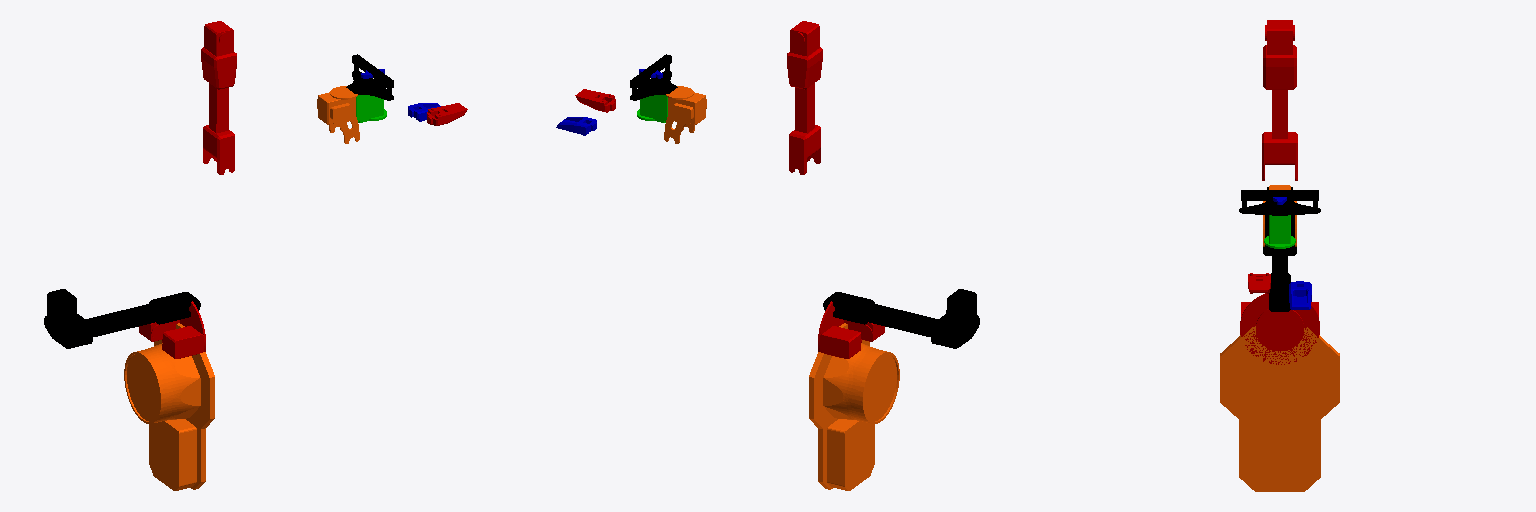
The robot description file, URDF, robot "wx200":
<?xml version="1.0" encoding="utf-8"?>
<!-- =================================================================================== -->
<!-- |    This document was autogenerated by xacro from wx200.urdf.xacro               | -->
<!-- |    EDITING THIS FILE BY HAND IS NOT RECOMMENDED                                 | -->
<!-- =================================================================================== -->
<robot name="wx200">
  <material name="black">
    <color rgba="0.0 0.0 0.0 1.0"/>
  </material>
  <material name="blue">
    <color rgba="0.0 0.0 0.8 1.0"/>
  </material>
  <material name="green">
    <color rgba="0.0 0.8 0.0 1.0"/>
  </material>
  <material name="grey">
    <color rgba="0.2 0.2 0.2 1.0"/>
  </material>
  <material name="silver">
    <color rgba="0.913725490196 0.913725490196 0.847058823529 1.0"/>
  </material>
  <material name="orange">
    <color rgba="1.0 0.423529411765 0.0392156862745 1.0"/>
  </material>
  <material name="brown">
    <color rgba="0.870588235294 0.811764705882 0.764705882353 1.0"/>
  </material>
  <material name="red">
    <color rgba="0.8 0.0 0.0 1.0"/>
  </material>
  <material name="white">
    <color rgba="1.0 1.0 1.0 1.0"/>
  </material>

  <link name="world">
    <visual>
      <origin rpy="0 0 0" xyz="0 0 0"/>
      <geometry>
        <box size="0 0 0"/>
      </geometry>
    </visual>
  </link>

  <joint name="base_static_joint" type="fixed">
    <origin rpy="0 -1.57 0" xyz="0. 0 0"/>
    <parent link="world"/>
    <child link="wx200/base_link"/>
  </joint>

  <link name="wx200/base_link">
    <visual>
      <origin rpy="0 0 1.57079632679" xyz="0 0 0"/>
      <geometry>
        <mesh filename="../meshes/wx200_1_base.dae" scale="0.001 0.001 0.001"/>
      </geometry>
      <material name="orange"/>
    </visual>
    <collision>
      <!-- <origin rpy="0 0 1.57079632679" xyz="0 0 0"/> -->
      <origin rpy="1.57079632679 0 1.57079632679" xyz="0 0 0"/>
      <geometry>
        <mesh filename="../meshes/wx200_1_base.dae" scale="0.001 0.001 0.001"/>
      </geometry>
    </collision>
    <inertial>
      <origin rpy="0 0 1.57079632679" xyz="-0.0381747000 0.0006478630 0.0193458000"/>
      <mass value="0.540142"/>
      <inertia ixx="0.0021190000" ixy="-0.0000172100" ixz="0.0000006389" iyy="0.0006925000" iyz="0.0000461200" izz="0.0025280000"/>
    </inertial>
  </link>

  <joint name="waist" type="revolute">
    <axis xyz="1 0 0"/>
    <limit effort="8" lower="-3.14158265359" upper="3.14158265359" velocity="3.14159265359"/>
    <!-- <origin rpy="0 0 0" xyz="0 0 0.072"/> -->
    <origin rpy="0 0 0" xyz="0.072 0 0"/>
    <parent link="wx200/base_link"/>
    <child link="wx200/shoulder_link"/>
    <dynamics friction="0."/>
  </joint>

  <link name="wx200/shoulder_link">
    <visual>
      <origin rpy="0 0 1.57079632679" xyz="0 0 -0.003"/>
      <geometry>
        <mesh filename="../meshes/wx200_2_shoulder.dae" scale="0.001 0.001 0.001"/>
      </geometry>
      <material name="red"/>
    </visual>
    <collision>
      <!-- <origin rpy="0 0 1.57079632679" xyz="0 0 -0.003"/> -->
      <origin rpy="1.57079632679 0 1.57079632679" xyz="0 0 -0.003"/>
      <geometry>
        <mesh filename="../meshes/wx200_2_shoulder.dae" scale="0.001 0.001 0.001"/>
      </geometry>
    </collision>
    <inertial>
      <origin rpy="0 0 1.57079632679" xyz="0.0000223210 0.0000414608 0.0066287000"/>
      <mass value="0.480879"/>
      <inertia ixx="0.0003790000" ixy="0.0000000022" ixz="-0.0000003561" iyy="0.0005557000" iyz="0.0000012247" izz="0.0005889000"/>
    </inertial>
  </link>

  <joint name="shoulder" type="revolute">
    <!-- <axis xyz="0 1 0"/> -->
    <axis xyz="0 1 0"/>
    <limit effort="18" lower="-1.88495559215" upper="1.97222205475" velocity="3.14159265359"/>
    <!-- <origin rpy="0 0 0" xyz="0 0 0.03865"/> -->
    <origin rpy="0 0 0" xyz="0.03865 0 0"/>
    <parent link="wx200/shoulder_link"/>
    <child link="wx200/upper_arm_link"/>
    <dynamics friction="0."/>
  </joint>
 
  <link name="wx200/upper_arm_link">
    <visual>
      <origin rpy="0 0 1.57079632679" xyz="0 0 0"/>
      <geometry>
        <mesh filename="../meshes/wx200_3_upper_arm.dae" scale="0.001 0.001 0.001"/>
      </geometry>
      <material name="black"/>
    </visual>
    <collision>
      <!-- <origin rpy="0 0 1.57079632679" xyz="0 0 0"/> -->
      <origin rpy="1.57079632679 0 1.57079632679" xyz="0 0 0"/>
      <geometry>
        <mesh filename="../meshes/wx200_3_upper_arm.dae" scale="0.001 0.001 0.001"/>
      </geometry>
    </collision>
    <inertial>
      <origin rpy="0 0 1.57079632679" xyz="0.0119707000 -0.0001179264 0.1394290000"/>
      <mass value="0.297781"/>
      <inertia ixx="0.0017100000" ixy="-0.0000011433" ixz="0.0000021161" iyy="0.0016310000" iyz="0.0002135000" izz="0.0001482000"/>
    </inertial>
  </link>

  <joint name="elbow" type="revolute">
    <!-- <axis xyz="0 1 0"/> -->
    <axis xyz="0 1 0"/>
    <limit effort="13" lower="-1.88495559215" upper="1.62315620435" velocity="3.14159265359"/>
    <!-- <origin rpy="0 0 0" xyz="0.05 0 0.2"/> -->
    <origin rpy="0 0 0" xyz="0.2 0 -0.05"/>
    <parent link="wx200/upper_arm_link"/>
    <child link="wx200/forearm_link"/>
    <dynamics friction="0."/>
  </joint>
 
  <link name="wx200/forearm_link">
    <visual>
      <origin rpy="0 0 1.57079632679" xyz="0 0 0"/>
      <geometry>
        <mesh filename="../meshes/wx200_4_forearm.dae" scale="0.001 0.001 0.001"/>
      </geometry>
      <material name="red"/>
    </visual>
    <collision>
      <!-- <origin rpy="0 0 1.57079632679" xyz="0 0 0"/> -->
      <origin rpy="1.57079632679 0 1.57079632679" xyz="0 0 0"/>
      <geometry>
        <mesh filename="../meshes/wx200_4_forearm.dae" scale="0.001 0.001 0.001"/>
      </geometry>
    </collision>
    <inertial>
      <origin rpy="0 0 1.57079632679" xyz="0.1211920000 -0.0001238123 0.0000000000"/>
      <mass value="0.283651"/>
      <inertia ixx="0.0011850000" ixy="-0.0000024317" ixz="0.0000000000" iyy="0.0000682900" iyz="0.0000000000" izz="0.0012060000"/>
    </inertial>
  </link>

  <joint name="wrist_angle" type="revolute">
    <axis xyz="0 1 0"/>
    <limit effort="5" lower="-1.74532925199" upper="2.14675497995" velocity="3.14159265359"/>
    <!-- <origin rpy="0 0 0" xyz="0.2 0 0"/> -->
    <origin rpy="0 0 0" xyz="0 0 -0.2"/>
    <parent link="wx200/forearm_link"/>
    <child link="wx200/wrist_link"/>
    <dynamics friction="0."/>
  </joint>
 
  <link name="wx200/wrist_link">
    <visual>
      <origin rpy="0 0 1.57079632679" xyz="0 0 0"/>
      <geometry>
        <mesh filename="../meshes/wx200_5_wrist.dae" scale="0.001 0.001 0.001"/>
      </geometry>
      <material name="orange"/>
    </visual>
    <collision>
      <!-- <origin rpy="0 0 1.57079632679" xyz="0 0 0"/> -->
      <origin rpy="1.57079632679 0 1.57079632679" xyz="0 0 0"/>
      <geometry>
        <mesh filename="../meshes/wx200_5_wrist.dae" scale="0.001 0.001 0.001"/>
      </geometry>
    </collision>
    <inertial>
      <origin rpy="0 0 1.57079632679" xyz="0.0423600000 -0.0000106630 0.0105770000"/>
      <mass value="0.084957"/>
      <inertia ixx="0.0000308200" ixy="0.0000000191" ixz="0.0000000023" iyy="0.0000282200" iyz="0.0000025481" izz="0.0000315200"/>
    </inertial>
  </link>

  <joint name="wrist_rotate" type="revolute">
    <!-- <axis xyz="1 0 0"/> -->
    <axis xyz="0 0 -1"/>
    <limit effort="1" lower="-3.14158265359" upper="3.14158265359" velocity="3.14159265359"/>
    <!-- <origin rpy="0 0 0" xyz="0.065 0 0"/> -->
    <origin rpy="0 0 0" xyz="0.0 0 -0.045"/>
    <parent link="wx200/wrist_link"/>
    <child link="wx200/gripper_link"/>
    <dynamics friction="0."/>
  </joint>
 
  <link name="wx200/gripper_link">
    <visual>
      <!-- <origin rpy="0 0 1.57079632679" xyz="-0.02 0 0"/> -->
      <origin rpy="0 0 1.57079632679" xyz="0 0 0"/>
      <geometry>
        <mesh filename="../meshes/wx200_6_gripper.dae" scale="0.001 0.001 0.001"/>
      </geometry>
      <material name="green"/>
    </visual>
    <collision>
      <!-- <origin rpy="0 0 1.57079632679" xyz="-0.02 0 0"/> -->
      <origin rpy="1.57079632679 0 1.57079632679" xyz="0 0 0"/>
      <geometry>
        <mesh filename="../meshes/wx200_6_gripper.dae" scale="0.001 0.001 0.001"/>
      </geometry>
    </collision>
    <inertial>
      <origin rpy="0 0 1.57079632679" xyz="0.0216310000 0.0000002516 0.0114100000"/>
      <mass value="0.072885"/>
      <inertia ixx="0.0000253700" ixy="0.0000000000" ixz="0.0000000000" iyy="0.0000183600" iyz="0.0000004340" izz="0.0000167400"/>
    </inertial>
  </link>

  <!-- <joint name="ee_arm" type="fixed">
    <axis xyz="1 0 0"/>
    <axis xyz="0 0 1"/>
    <origin rpy="0 0 0" xyz="0.043 0 0"/>
    <origin rpy="0 0 0" xyz="0.0 0 -0.043"/>
    <parent link="wx200/gripper_link"/>
    <child link="wx200/ee_arm_link"/>
  </joint>

  <link name="wx200/ee_arm_link">
    <inertial>
      <mass value="0.001"/>
      <inertia ixx="0.001" ixy="0" ixz="0" iyy="0.001" iyz="0" izz="0.001"/>
    </inertial>
  </link> -->

  <joint name="gripper" type="fixed">
    <!-- <axis xyz="1 0 0"/> -->
    <axis xyz="0 0 1"/>
    <limit effort="1" velocity="3.14159265359"/>
    <!-- <origin rpy="0 0 0" xyz="0.0055 0 0"/> -->
    <origin rpy="0 0 0" xyz="0.083 0 0.0"/>
    <!-- <parent link="wx200/ee_arm_link"/> -->
    <parent link="wx200/gripper_link"/>
    <child link="wx200/gripper_prop_link"/>
    <dynamics friction="0."/>
  </joint>
 
  <link name="wx200/gripper_prop_link">
    <visual>
      <origin rpy="0 0 1.57079632679" xyz="-0.0685 0 0"/>
      <geometry>
        <mesh filename="../meshes/wx200_7_gripper_prop.dae" scale="0.001 0.001 0.001"/>
      </geometry>
      <material name="blue"/>
    </visual>
    <collision>
      <!-- <origin rpy="0 0 1.57079632679" xyz="-0.0685 0 0"/> -->
      <origin rpy="1.57079632679 0 1.57079632679" xyz="-0.0685 0 0"/>
      <geometry>
        <mesh filename="../meshes/wx200_7_gripper_prop.dae" scale="0.001 0.001 0.001"/>
      </geometry>
    </collision>
    <inertial>
      <origin rpy="0 0 1.57079632679" xyz="0.0008460000 -0.0000016817 0.0000420000"/>
      <mass value="0.00434"/>
      <inertia ixx="0.0000005923" ixy="0.0000000000" ixz="0.0000003195" iyy="0.0000011156" iyz="-0.0000000004" izz="0.0000005743"/>
    </inertial>
  </link>
  <!-- If the AR tag is being used, then add the AR tag mount -->
  <!-- If the gripper bar is being used, then also add the gripper bar -->
  <joint name="gripper_bar" type="fixed">
    <!-- <axis xyz="1 0 0"/> -->
    <axis xyz="0 0 1"/>
    <!-- <origin rpy="0 0 0" xyz="0 0 0"/> -->
    <origin rpy="0 0 0" xyz="0.063 0 0.0"/>
    <!-- <parent link="wx200/ee_arm_link"/> -->
    <parent link="wx200/gripper_link"/>
    <child link="wx200/gripper_bar_link"/>
  </joint>

  <link name="wx200/gripper_bar_link">
    <visual>
      <origin rpy="0 0 1.57079632679" xyz="-0.063 0 0"/>
      <geometry>
        <mesh filename="../meshes/wx200_8_gripper_bar.dae" scale="0.001 0.001 0.001"/>
      </geometry>
      <material name="black"/>
    </visual>
    <collision>
      <!-- <origin rpy="0 0 1.57079632679" xyz="-0.063 0 0"/> -->
      <origin rpy="1.57079632679 0 1.57079632679" xyz="-0.063 0 0"/>
      <geometry>
        <mesh filename="../meshes/wx200_8_gripper_bar.dae" scale="0.001 0.001 0.001"/>
      </geometry>
    </collision>
    <inertial>
      <origin rpy="0 0 1.57079632679" xyz="0.0096870000 0.0000008177 0.0049620000"/>
      <mass value="0.034199"/>
      <inertia ixx="0.0000074125" ixy="-0.0000000008" ixz="-0.0000000006" iyy="0.0000284300" iyz="-0.0000013889" izz="0.0000286000"/>
    </inertial>
  </link>
  <!-- <joint name="ee_bar" type="fixed">
    <axis xyz="1 0 0"/>
    <origin rpy="0 0 0" xyz="0.023 0 0"/>
    <parent link="wx200/gripper_bar_link"/>
    <child link="wx200/fingers_link"/>
  </joint>
  <link name="wx200/fingers_link">
   <visual>
      <origin rpy="0 0 1.57079632679" xyz="0 0 0"/>
    </visual>
    <inertial>
      <mass value="0.001"/>
      <inertia ixx="0.001" ixy="0" ixz="0" iyy="0.001" iyz="0" izz="0.001"/>
    </inertial>
  </link> -->
  <!-- If the gripper fingers are being used, add those as well -->
  <joint name="left_finger" type="prismatic">
    <axis xyz="0 1 0"/>
    <limit effort="5" lower="0.015" upper="0.037" velocity="1"/>
    <!-- <origin rpy="0 0 0" xyz="0 0 0"/> -->
    <origin rpy="0 0 0" xyz="-0.063 -0.005 -0.086"/>
    <!-- <parent link="wx200/fingers_link"/> -->
    <parent link="wx200/gripper_bar_link"/>
    <child link="wx200/left_finger_link"/>
    <dynamics friction="0."/>
  </joint>
 
  <link name="wx200/left_finger_link">
    <visual>
      <!-- <origin rpy="3.14159265359 3.14159265359 0" xyz="0 0.005 0"/> -->
      <origin rpy="1.57079632679 -1.57079632679 0" xyz="0 0.005 0"/>
      <geometry>
        <mesh filename="../meshes/wx200_9_gripper_finger.dae" scale="0.001 0.001 0.001"/>
      </geometry>
      <material name="blue"/>
    </visual>
    <collision>
      <!-- <origin rpy="3.14159265359 3.14159265359 0" xyz="0 0.005 0"/> -->
      <origin rpy="3.14159265359 -1.57079632679 0" xyz="0 0.005 0"/>
      <geometry>
        <mesh filename="../meshes/wx200_9_gripper_finger.dae" scale="0.001 0.001 0.001"/>
      </geometry>
    </collision>
    <inertial>
      <origin rpy="3.14159265359 3.14159265359 1.57079632679" xyz="0.0138160000 0.0000000000 0.0000000000"/>
      <mass value="0.016246"/>
      <inertia ixx="0.0000047310" ixy="-0.0000004560" ixz="0.0000000000" iyy="0.0000015506" iyz="0.0000000000" izz="0.0000037467"/>
    </inertial>
  </link>

  <joint name="right_finger" type="prismatic">
    <axis xyz="0 1 0"/>
    <limit effort="5" lower="-0.037" upper="-0.015" velocity="1"/>
    <!-- <origin rpy="0 0 0" xyz="0 0 0"/> -->
    <origin rpy="0 0 0" xyz="-0.063 -0.005 -0.086"/>
    <!-- <parent link="wx200/fingers_link"/> -->
    <parent link="wx200/gripper_bar_link"/>
    <child link="wx200/right_finger_link"/>
    <dynamics friction="0."/>
    <mimic joint="left_finger" multiplier="-1" offset="0"/>
  </joint>
  
  <link name="wx200/right_finger_link">
    <visual>
      <!-- <origin rpy="0 3.14159265359 0" xyz="0 -0.005 0"/> -->
      <origin rpy="-1.57079632679 -1.57079632679 0" xyz="0 0.005 0"/>
      <geometry>
        <mesh filename="../meshes/wx200_9_gripper_finger.dae" scale="0.001 0.001 0.001"/>
      </geometry>
      <material name="red"/>
    </visual>
    <collision>
      <!-- <origin rpy="0 3.14159265359 0" xyz="0 -0.005 0"/> -->
      <origin rpy="0 -1.57079632679 0" xyz="0 0.005 0"/>
      <geometry>
        <mesh filename="../meshes/wx200_9_gripper_finger.dae" scale="0.001 0.001 0.001"/>
      </geometry>
    </collision>
    <inertial>
      <origin rpy="0 3.14159265359 1.57079632679" xyz="0.0138160000 0.0000000000  0.0000000000"/>
      <mass value="0.016246"/>
      <inertia ixx="0.0000047310" ixy="0.0000004560" ixz="0.0000000000" iyy="0.0000015506" iyz="0.0000000000" izz="0.0000037467"/>
    </inertial>
  </link>
  <joint name="ee_gripper" type="fixed"  dont_collapse="true">
    <!-- <axis xyz="1 0 0"/> -->
    <axis xyz="0 0 1"/>
    <!-- <origin rpy="0 0 0" xyz="0.027575 0 0"/> -->
    <origin rpy="0 0 0" xyz="-0.04 0.0 -0.08"/>
    <!-- <parent link="wx200/fingers_link"/> -->
    <parent link="wx200/gripper_bar_link"/>
    <child link="wx200/ee_gripper_link"/>
  </joint>
  <link name="wx200/ee_gripper_link">
    <inertial>
      <mass value="0.001"/>
      <inertia ixx="0.001" ixy="0" ixz="0" iyy="0.001" iyz="0" izz="0.001"/>
    </inertial>
  </link>
</robot>

--- Render facts (derived) ---
3 views of the same robot in one strip: view 1: azimuth 30°, elevation 25°; view 2: azimuth 150°, elevation 25°; view 3: azimuth 270°, elevation 25° (orthographic).
Model wx200 with 12 links and 11 joints (5 revolute, 2 prismatic, 4 fixed), rooted at world, posed all joints at 0 but 2 set to mid-range because 0 is outside their limits (left_finger = 0.026, right_finger = -0.026).
Visible links, largest first — view 1: wx200/base_link, wx200/upper_arm_link, wx200/forearm_link, wx200/shoulder_link, wx200/wrist_link, wx200/gripper_bar_link, wx200/gripper_link, wx200/right_finger_link; view 2: wx200/base_link, wx200/upper_arm_link, wx200/forearm_link, wx200/shoulder_link, wx200/wrist_link, wx200/gripper_bar_link, wx200/gripper_link, wx200/right_finger_link, wx200/left_finger_link; view 3: wx200/base_link, wx200/forearm_link, wx200/shoulder_link, wx200/gripper_bar_link, wx200/upper_arm_link, wx200/gripper_link, wx200/left_finger_link.
Boxes of the visible links, box(x1,y1,x2,y2) form: wx200/base_link: box(124, 323, 214, 490); wx200/upper_arm_link: box(44, 289, 200, 348); wx200/forearm_link: box(201, 21, 236, 174); wx200/shoulder_link: box(139, 301, 205, 358); wx200/wrist_link: box(317, 86, 359, 143); wx200/gripper_bar_link: box(346, 54, 393, 100); wx200/gripper_link: box(356, 95, 386, 122); wx200/right_finger_link: box(427, 103, 467, 125); wx200/base_link: box(809, 323, 899, 490); wx200/upper_arm_link: box(823, 289, 979, 348); wx200/forearm_link: box(787, 21, 822, 174); wx200/shoulder_link: box(818, 301, 884, 358); wx200/wrist_link: box(664, 86, 706, 143); wx200/gripper_bar_link: box(630, 54, 677, 100); wx200/gripper_link: box(637, 95, 667, 122); wx200/right_finger_link: box(575, 89, 615, 112); wx200/left_finger_link: box(556, 117, 596, 135); wx200/base_link: box(1220, 326, 1339, 491); wx200/forearm_link: box(1262, 20, 1297, 180); wx200/shoulder_link: box(1240, 293, 1319, 364); wx200/gripper_bar_link: box(1239, 190, 1320, 215); wx200/upper_arm_link: box(1263, 187, 1296, 311); wx200/gripper_link: box(1264, 215, 1295, 248); wx200/left_finger_link: box(1289, 281, 1311, 309).
Bounding box of the posed robot: 0.6423 × 0.1531 × 0.6789 m (x, y, z).
10 mesh visuals loaded from 9 distinct referenced files (9 Collada DAE).
